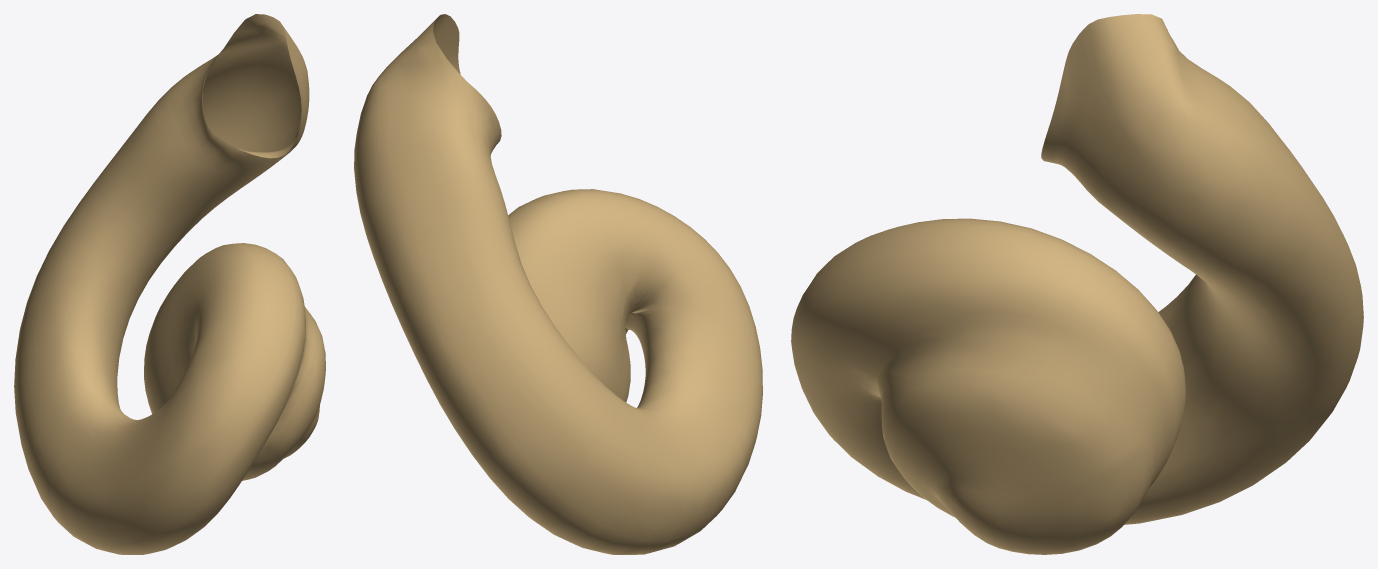
The picture shows the model from 3 angles, left to right: view 1: azimuth 30°, elevation 25°; view 2: azimuth 150°, elevation 25°; view 3: azimuth 270°, elevation 25°; orthographic projection. The views are drawn at different scales.
Parts seen in each view (by area): view 1: 左侧耳蜗; view 2: 左侧耳蜗; view 3: 左侧耳蜗.
Part boxes in pixels (<box>): 左侧耳蜗: <box>14,14,325,554</box>; 左侧耳蜗: <box>354,14,762,554</box>; 左侧耳蜗: <box>791,14,1363,554</box>.
Size of the model in its own units: 0.00948 by 0.0145 by 0.0118.
